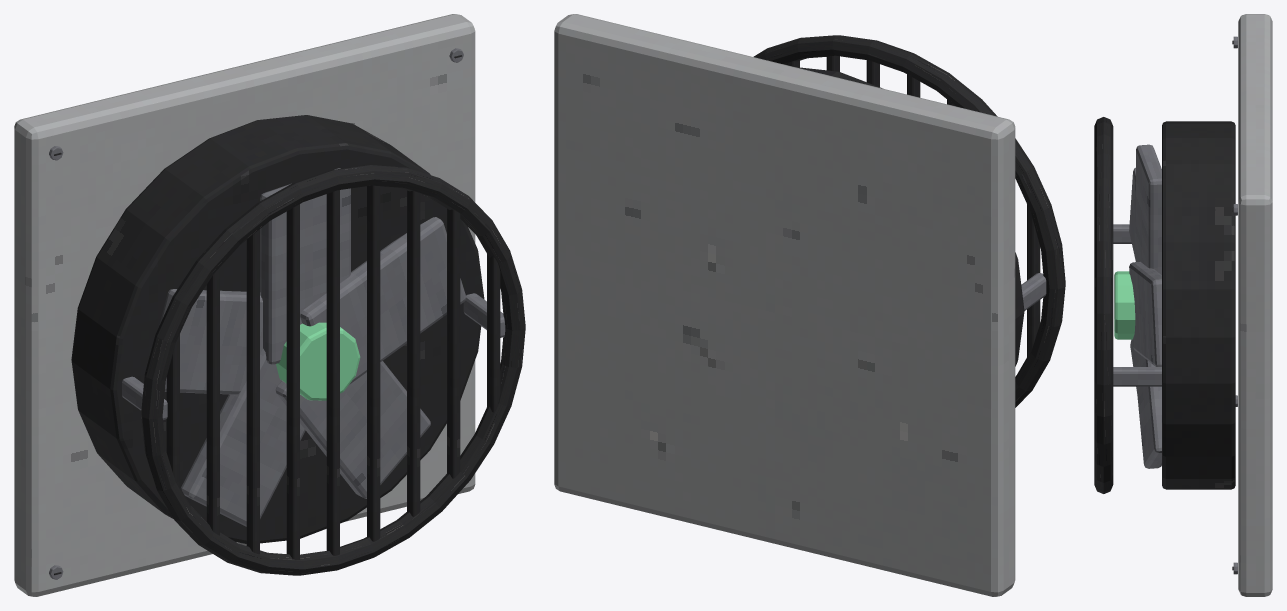
The model's file is lbd_enclosed_fan.glb.
3 renders of one model, left to right at view 1: azimuth 30°, elevation 25°; view 2: azimuth 150°, elevation 25°; view 3: azimuth 270°, elevation 25°, orthographic. The views are drawn at different scales.
Parts seen in each view (by area): view 1: enclosed_fan__mount_003, enclosed_fan__duct_020, enclosed_fan__fixed grille rim_064, enclosed_fan__blade_026, enclosed_fan__blade_032, enclosed_fan__blade_023, enclosed_fan__blade_029, enclosed_fan__blade_035, enclosed_fan__fixed grille_051, enclosed_fan__fixed grille_054, enclosed_fan__fixed grille_048, enclosed_fan__fixed grille_057 (+7 smaller); view 2: enclosed_fan__mount_003, enclosed_fan__fixed grille rim_064, enclosed_fan__fixed grille_039, enclosed_fan__duct_020, enclosed_fan__grille standoff_067; view 3: enclosed_fan__duct_020, enclosed_fan__mount_003, enclosed_fan__fixed grille rim_064, enclosed_fan__blade_023, enclosed_fan__blade_026, enclosed_fan__blade_029, enclosed_fan__hub_036, enclosed_fan__grille standoff_070, enclosed_fan__blade_035, enclosed_fan__grille standoff_067.
Boxes of the visible parts, box(x1,y1,x2,y2) form: enclosed_fan__mount_003: box(14, 14, 475, 596); enclosed_fan__duct_020: box(71, 115, 484, 543); enclosed_fan__fixed grille rim_064: box(141, 165, 525, 575); enclosed_fan__blade_026: box(300, 217, 466, 384); enclosed_fan__blade_032: box(181, 348, 305, 526); enclosed_fan__blade_023: box(260, 168, 350, 364); enclosed_fan__blade_029: box(275, 361, 430, 498); enclosed_fan__blade_035: box(159, 289, 262, 394); enclosed_fan__fixed grille_051: box(326, 190, 339, 555); enclosed_fan__fixed grille_054: box(367, 185, 380, 541); enclosed_fan__fixed grille_048: box(286, 204, 299, 559); enclosed_fan__fixed grille_057: box(407, 190, 420, 516); enclosed_fan__mount_003: box(554, 14, 1015, 596); enclosed_fan__fixed grille rim_064: box(753, 35, 1065, 407); enclosed_fan__fixed grille_039: box(1027, 204, 1040, 358); enclosed_fan__duct_020: box(795, 67, 1024, 366); enclosed_fan__grille standoff_067: box(1021, 273, 1046, 310); enclosed_fan__duct_020: box(1162, 121, 1235, 489); enclosed_fan__mount_003: box(1238, 14, 1272, 596); enclosed_fan__fixed grille rim_064: box(1094, 117, 1113, 493); enclosed_fan__blade_023: box(1136, 144, 1161, 274); enclosed_fan__blade_026: box(1129, 261, 1161, 366); enclosed_fan__blade_029: box(1132, 340, 1161, 468); enclosed_fan__hub_036: box(1114, 271, 1135, 339); enclosed_fan__grille standoff_070: box(1113, 367, 1161, 386); enclosed_fan__blade_035: box(1129, 167, 1135, 261); enclosed_fan__grille standoff_067: box(1113, 224, 1131, 243).
Size of the model in its own units: 0.84 by 0.84 by 0.338.
Materials: 4 (3 with a texture image).
